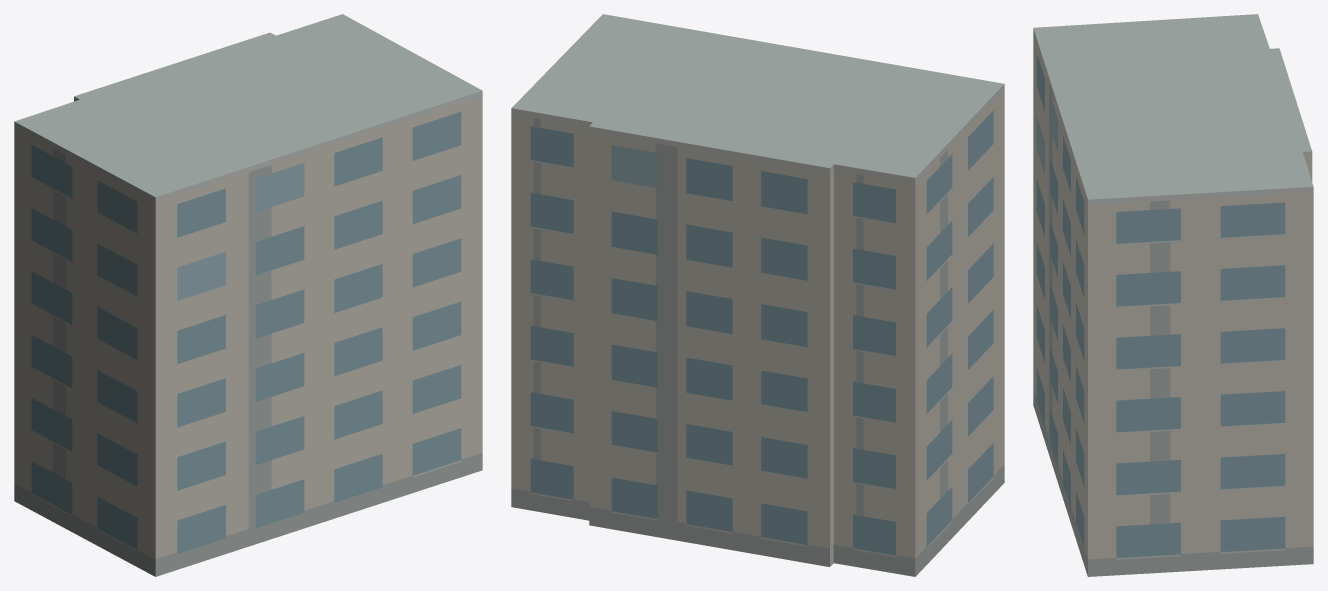
The model's file is survey-upis-33011882.glb.
The picture shows the model from 3 angles, left to right: view 1: azimuth 30°, elevation 25°; view 2: azimuth 150°, elevation 25°; view 3: azimuth 270°, elevation 25°; orthographic projection. The views are drawn at different scales.
Visible parts, largest first — view 1: survey-upis-33011882.tmp; view 2: survey-upis-33011882.tmp; view 3: survey-upis-33011882.tmp.
Part boxes in pixels (<box>): survey-upis-33011882.tmp: <box>14,14,482,576</box>; survey-upis-33011882.tmp: <box>511,14,1004,576</box>; survey-upis-33011882.tmp: <box>1033,14,1313,576</box>.
Size of the model in its own units: 18.27 by 17.3 by 11.66.
